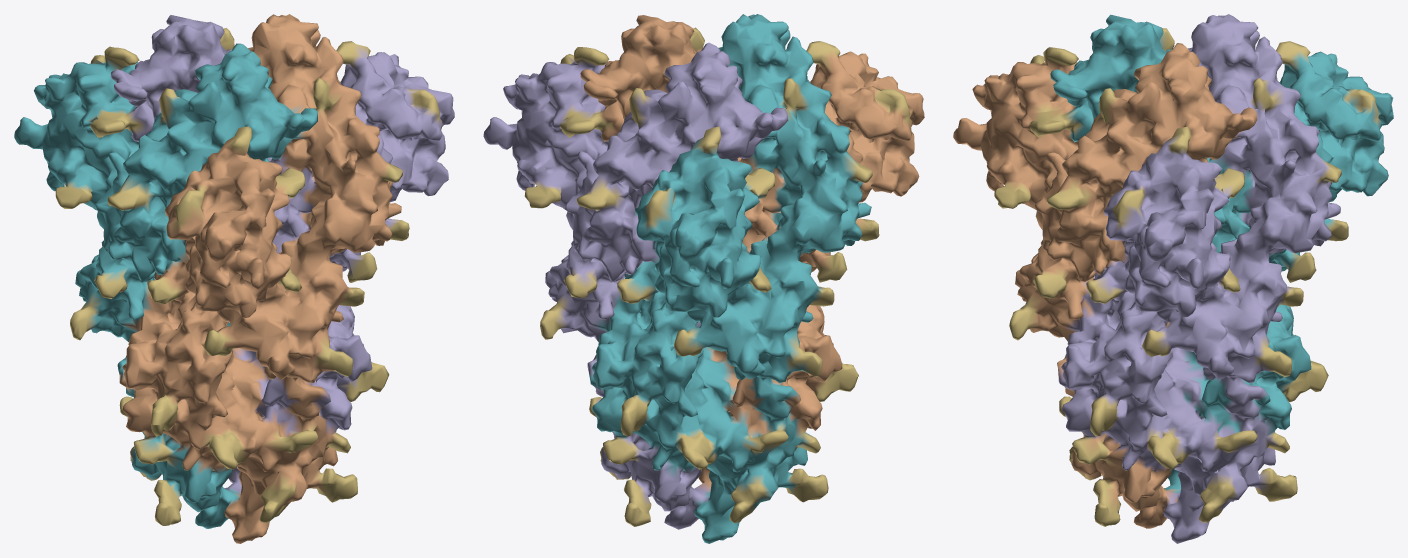
File: pdb-6vxx-spike.glb
3 views of the same model, side by side, from view 1: azimuth 30°, elevation 25°; view 2: azimuth 150°, elevation 25°; view 3: azimuth 270°, elevation 25° (orthographic).
Parts seen in each view (by area): view 1: SARS-CoV-2 Spike; view 2: SARS-CoV-2 Spike; view 3: SARS-CoV-2 Spike.
Boxes of the visible parts, x1,y1,x2,y2 form: SARS-CoV-2 Spike: [14, 14, 454, 543]; SARS-CoV-2 Spike: [483, 14, 924, 543]; SARS-CoV-2 Spike: [953, 14, 1393, 543].
Bounding box in the file's own units: 12.13 × 16.21 × 12.89.
